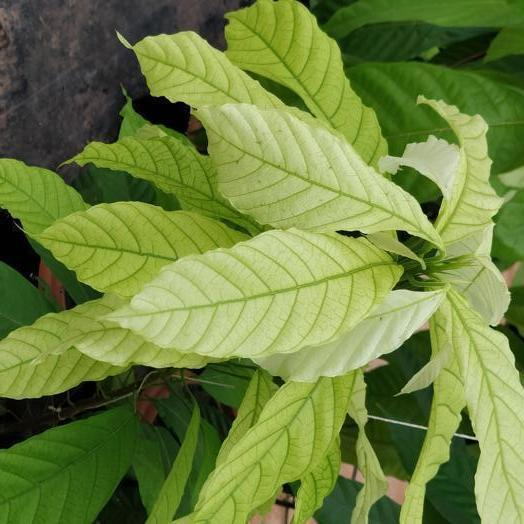Iron: (108, 229, 401, 357), (197, 103, 442, 246), (436, 291, 523, 523)
